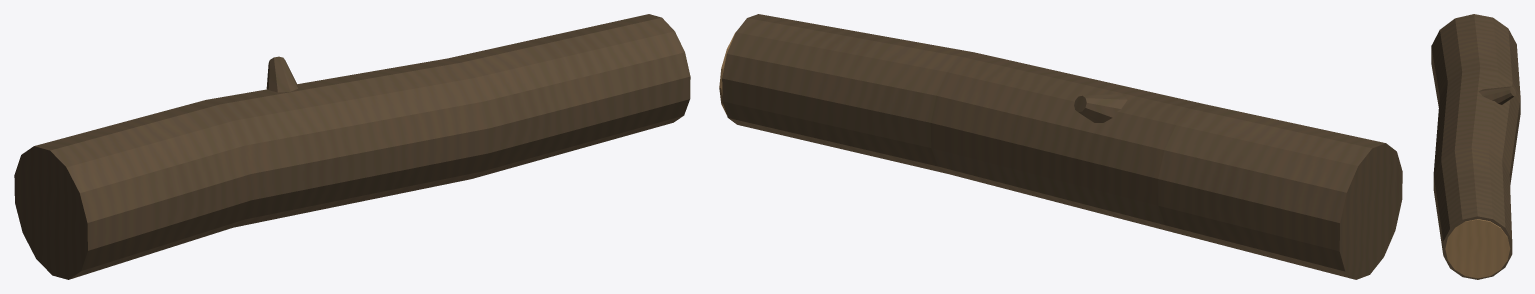
The model's file is NA_FallenLog.glb.
The picture shows the model from 3 angles, left to right: view 1: azimuth 30°, elevation 25°; view 2: azimuth 150°, elevation 25°; view 3: azimuth 270°, elevation 25°; orthographic projection. The views are drawn at different scales.
Visible parts, largest first — view 1: NA_FallenLog; view 2: NA_FallenLog; view 3: NA_FallenLog.
Part boxes in pixels (bbox=[...]): NA_FallenLog: bbox=[14, 14, 690, 279]; NA_FallenLog: bbox=[719, 14, 1402, 279]; NA_FallenLog: bbox=[1431, 14, 1520, 279].
Size of the model in its own units: 1.86 by 0.3891 by 0.366.
2 materials, 2 textured.
